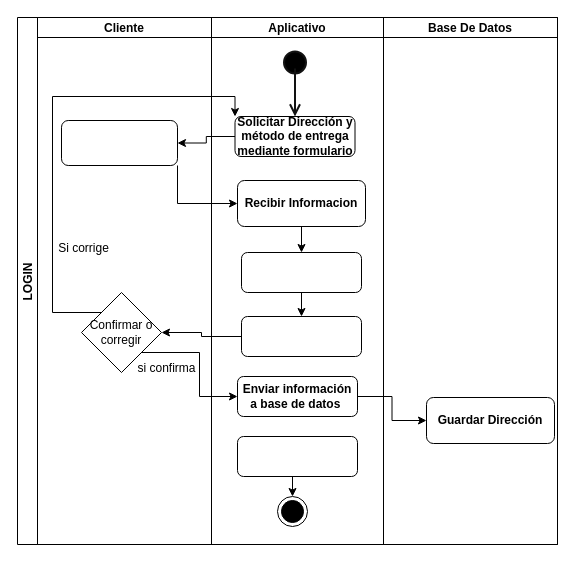
Some shapes in this 575 by 562 pixel diagram are drawn without their labels. The centre of each missing label's shape, as x and y in pixels:
"Digitar Dirección y elegir método de entrega" belongs at pixel 119 143.
"Mostrar confirmación de guardos" belongs at pixel 297 456.
"Mostrar información" belongs at pixel 301 272.
"Pedir Confirmacion" belongs at pixel 301 336.
